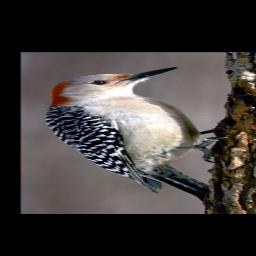Woodpecker: (44, 67, 227, 194)
